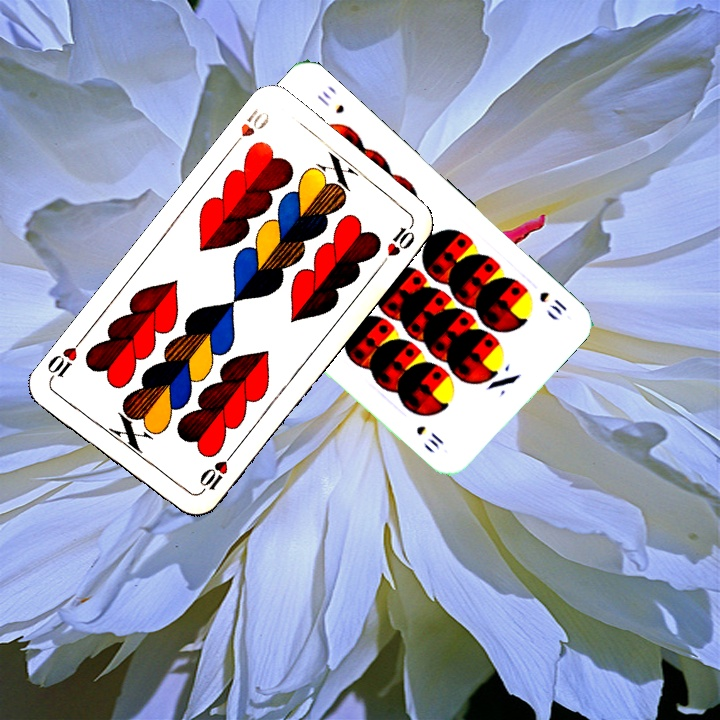H10: (225, 106, 272, 153), (193, 449, 236, 498)
S10: (535, 287, 570, 318)
